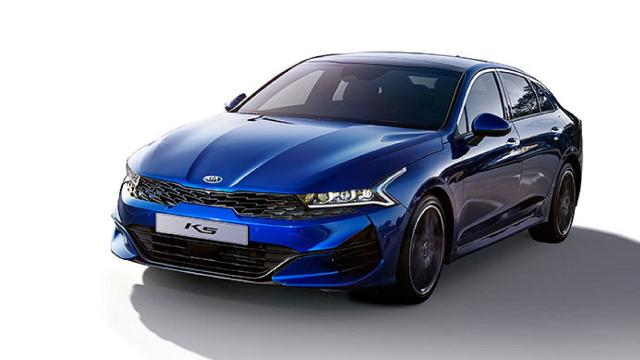kia: (109, 52, 584, 304)
